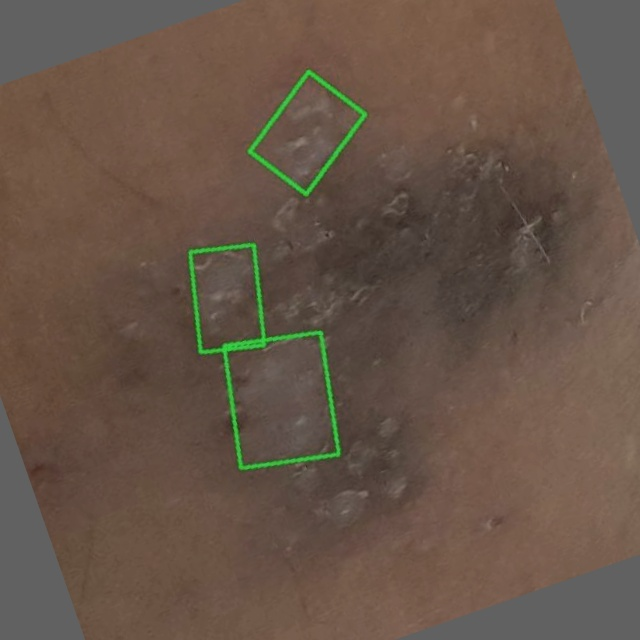Contact Dermatitis: (223, 332, 337, 468), (249, 72, 365, 194), (190, 245, 263, 352)
